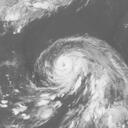cyclone: (34, 36, 112, 99)
